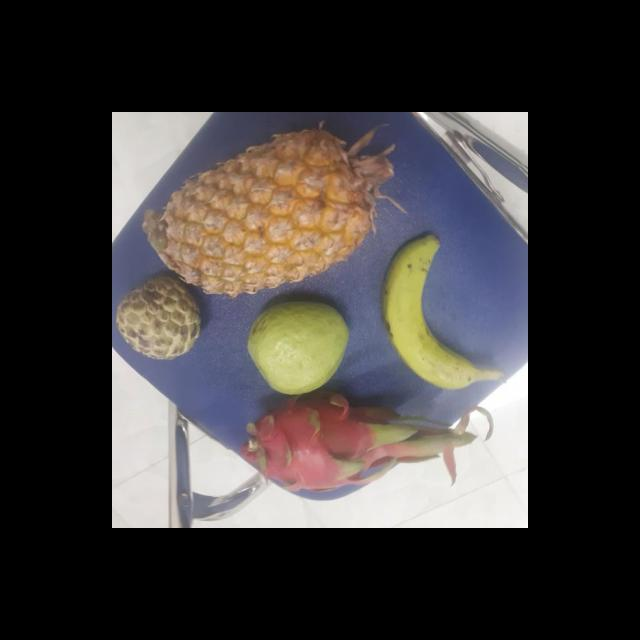Sakya fruit: (116, 274, 206, 360)
banana: (386, 235, 491, 387)
guava: (248, 299, 353, 394)
pineapple: (154, 136, 392, 292)
pitaya: (247, 388, 416, 497)
